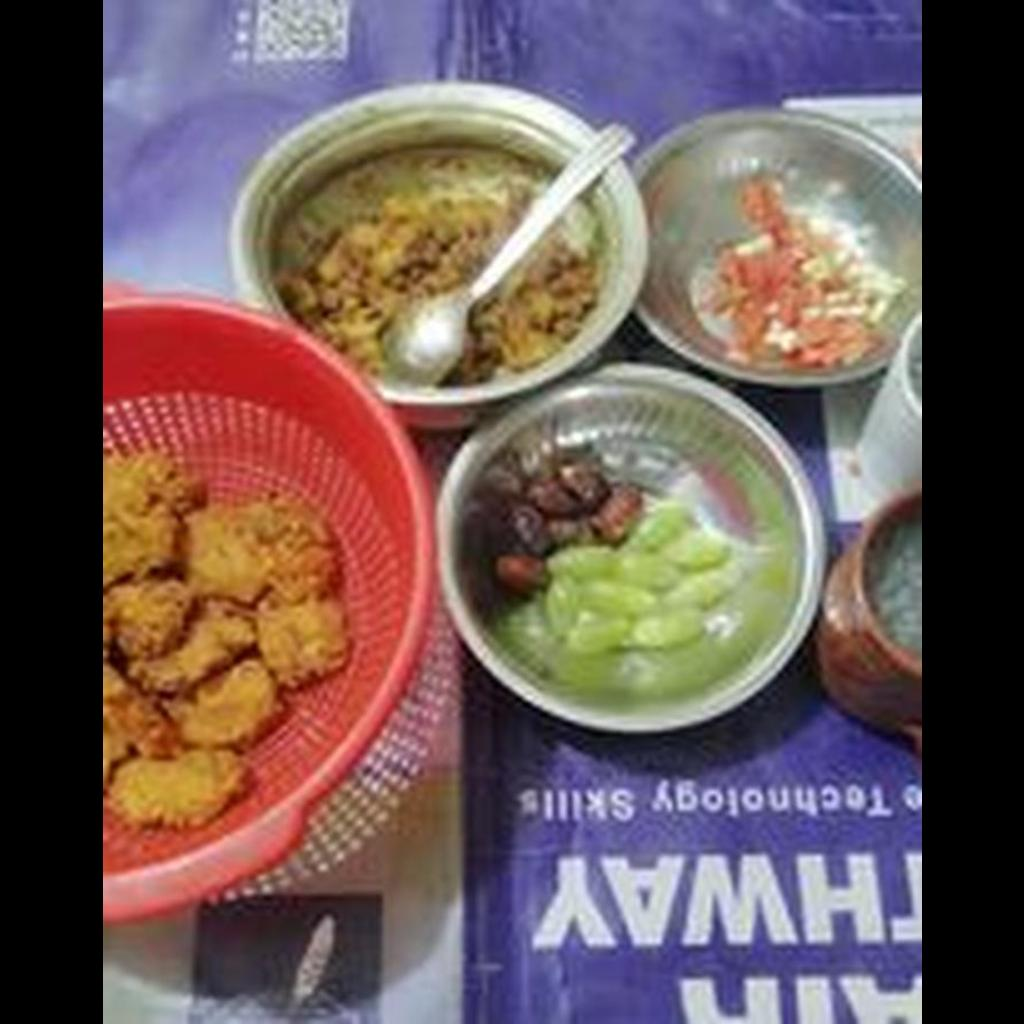dates: (494, 471, 641, 586)
grapes: (550, 510, 726, 648)
peyaju: (102, 453, 348, 824)
